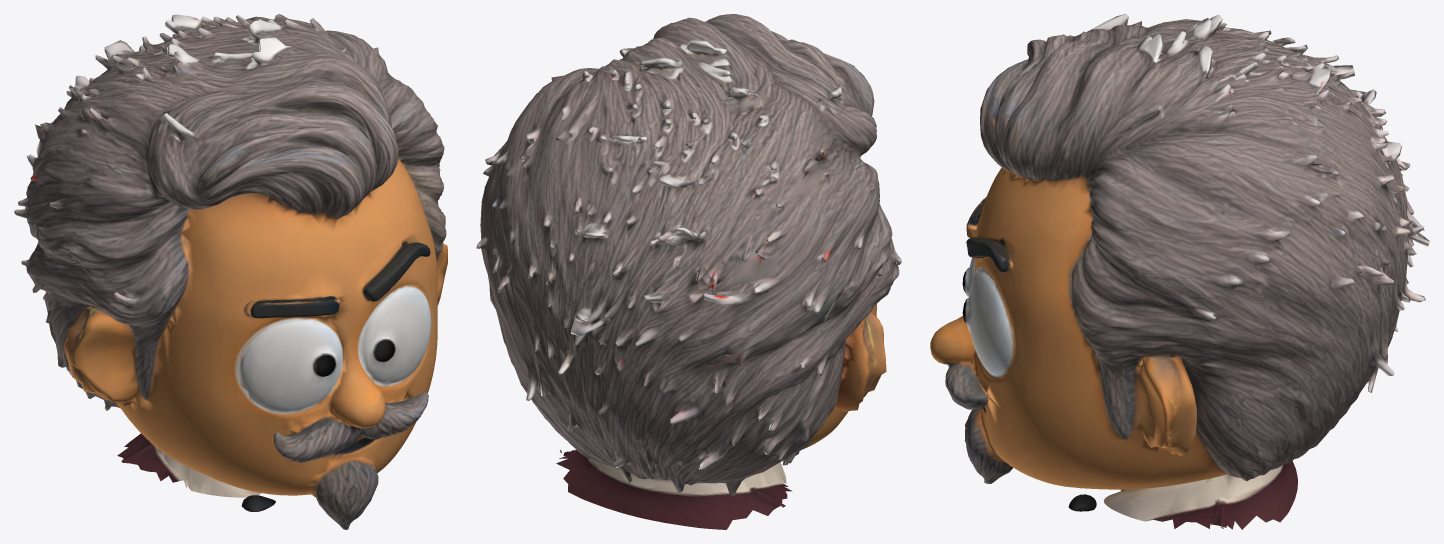
Rendered from dealer-head.glb.
The picture shows the model from 3 angles, left to right: view 1: azimuth 30°, elevation 25°; view 2: azimuth 150°, elevation 25°; view 3: azimuth 270°, elevation 25°; orthographic projection. The views are drawn at different scales.
Visible parts, largest first — view 1: Face; view 2: Face; view 3: Face.
Part boxes in pixels (x1,y1,x2,y2): Face: (14, 14, 447, 529); Face: (476, 14, 901, 529); Face: (930, 14, 1429, 529).
Size of what is drawn, in the model's own units: 0.9551 by 1.04 by 1.05.
Materials: 2 (1 with a texture image).
